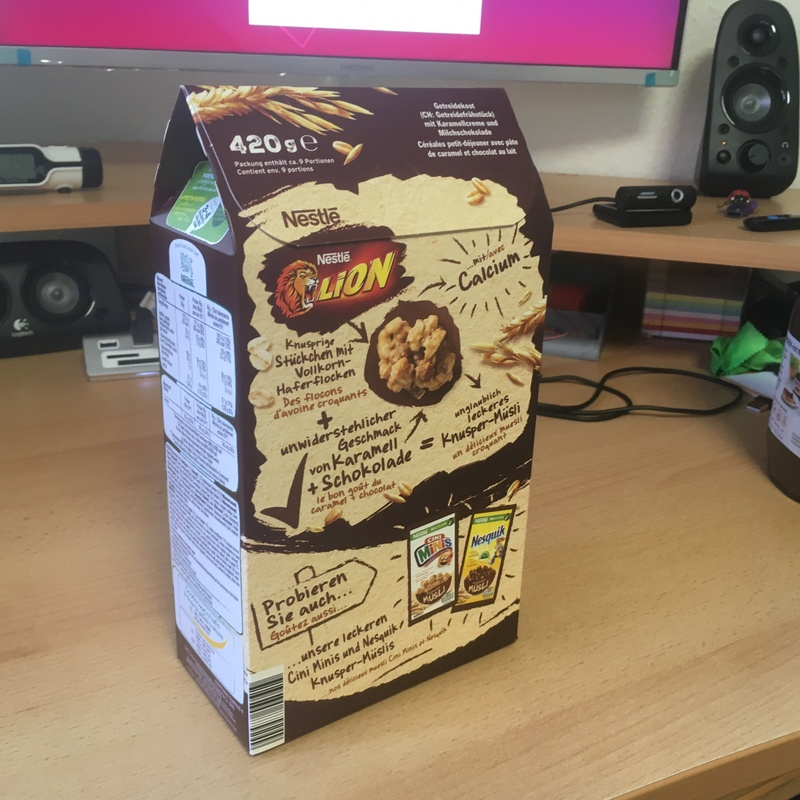cereals: (148, 83, 555, 757)
